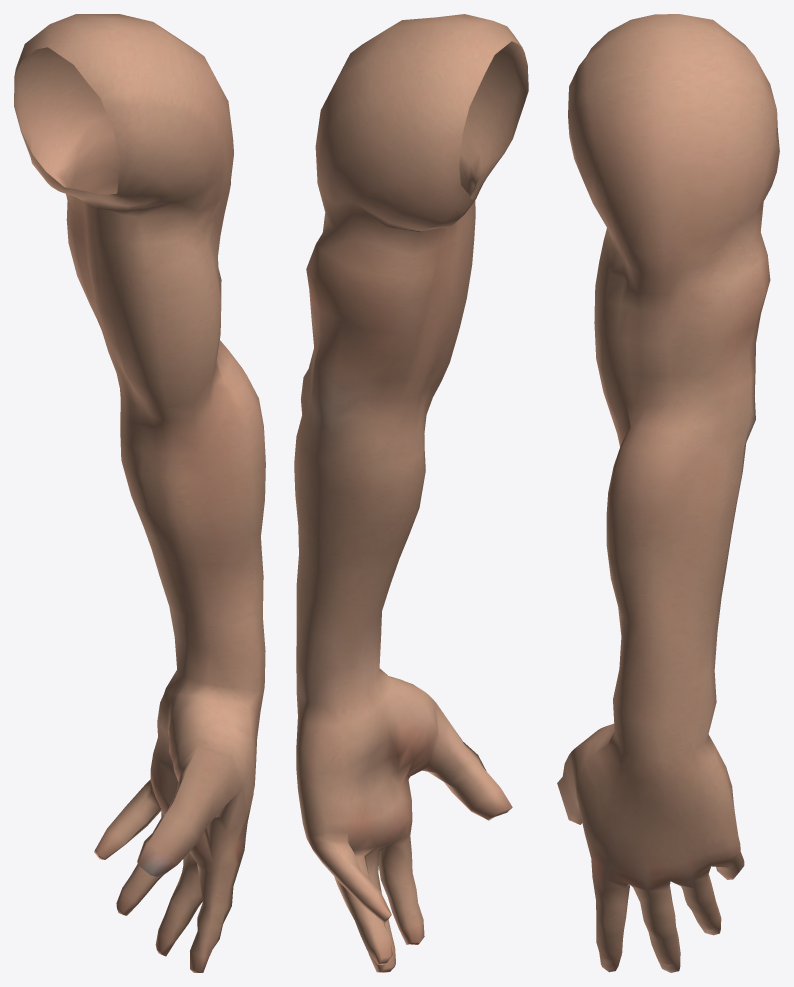
The model's file is PRP_MuscleModel.glb.
The picture shows the model from 3 angles, left to right: view 1: azimuth 30°, elevation 25°; view 2: azimuth 150°, elevation 25°; view 3: azimuth 270°, elevation 25°; orthographic projection. The views are drawn at different scales.
Parts seen in each view (by area): view 1: defaultMaterial; view 2: defaultMaterial; view 3: defaultMaterial.
Boxes of the visible parts, bbox=[...] form: defaultMaterial: bbox=[14, 14, 265, 972]; defaultMaterial: bbox=[294, 14, 528, 972]; defaultMaterial: bbox=[557, 14, 779, 972].
Bounding box in the file's own units: 0.4441 × 2 × 0.4397.
1 material, 1 textured.
